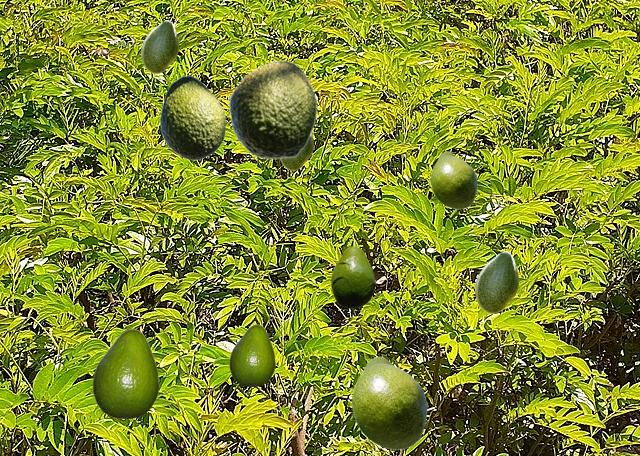avocado: (228, 60, 316, 158), (351, 356, 426, 449), (92, 328, 158, 417), (159, 75, 225, 159), (229, 324, 274, 385), (331, 246, 374, 307), (430, 151, 476, 208), (475, 251, 517, 312), (141, 20, 177, 72), (279, 133, 312, 169)
